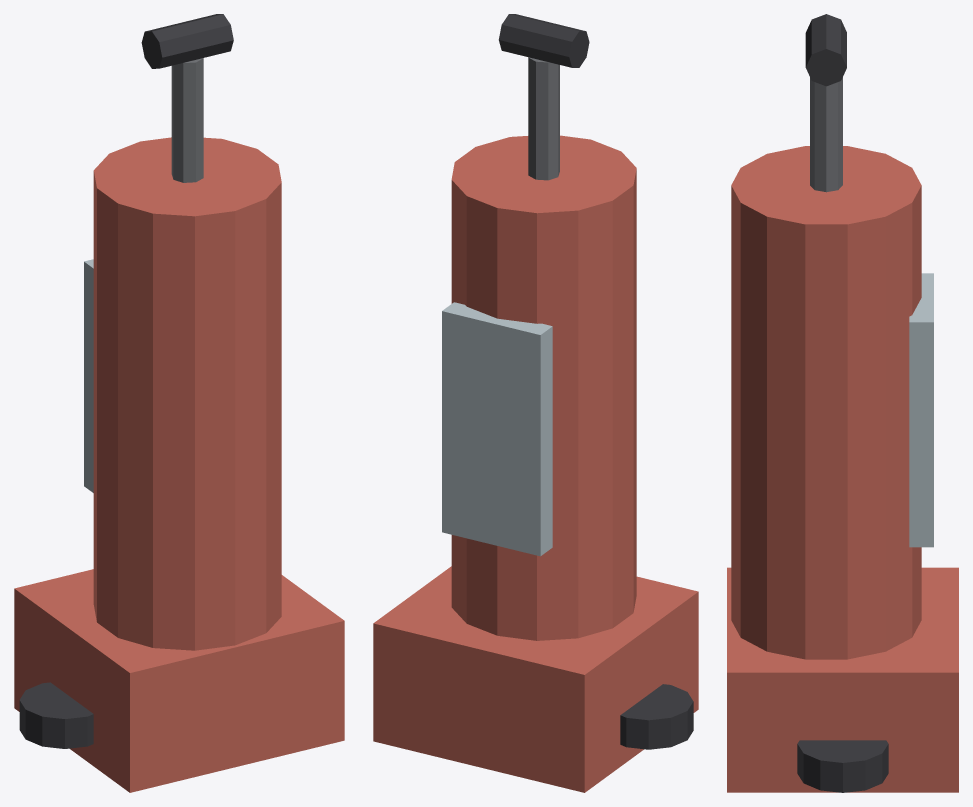
File: eld_aspirador.glb
3 renders of one model, left to right at view 1: azimuth 30°, elevation 25°; view 2: azimuth 150°, elevation 25°; view 3: azimuth 270°, elevation 25°, orthographic.
Visible parts, largest first — view 1: ELD_ASPIRADOR_v01; view 2: ELD_ASPIRADOR_v01; view 3: ELD_ASPIRADOR_v01.
Part boxes in pixels (x1,y1,x2,y2): ELD_ASPIRADOR_v01: (14, 14, 344, 792); ELD_ASPIRADOR_v01: (373, 14, 698, 792); ELD_ASPIRADOR_v01: (727, 14, 958, 792).
Size of the model in its own units: 0.43 by 0.945 by 0.28.
